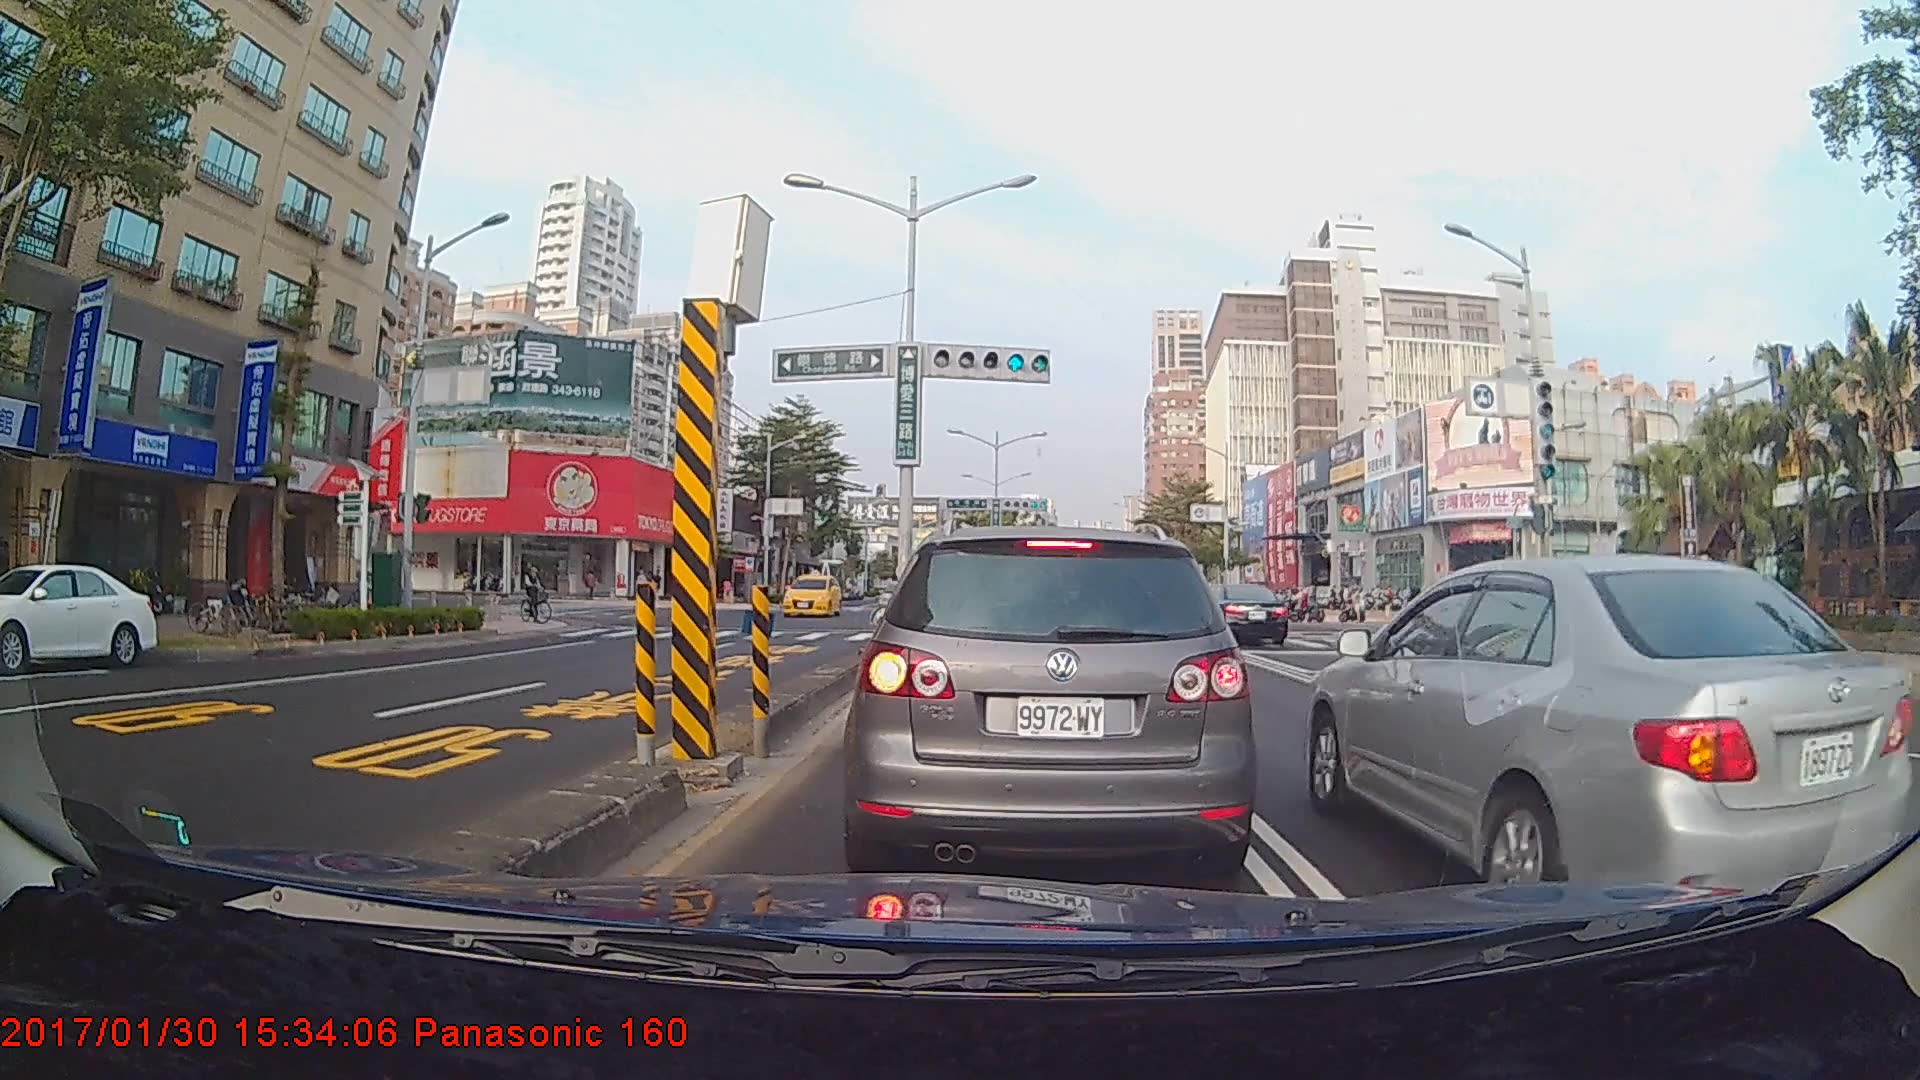rider: (518, 559, 561, 629)
vehicle: (1302, 550, 1911, 889), (855, 524, 1246, 879), (0, 561, 162, 671), (1191, 581, 1287, 646), (778, 575, 840, 618)
